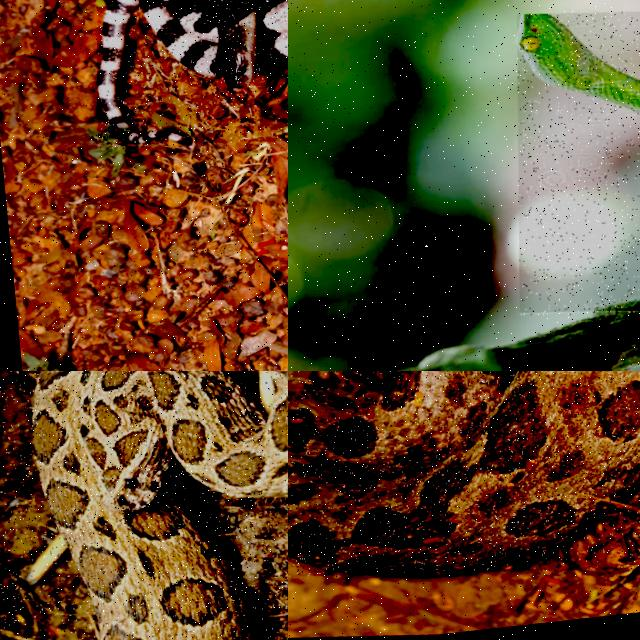Bungarus candidus: (98, 0, 260, 128)
Daboia siamensis: (288, 371, 639, 573), (34, 371, 287, 639)
Trimeresurus macrops: (517, 15, 639, 117)
snake: (288, 371, 639, 573), (34, 371, 287, 639), (98, 0, 260, 128), (517, 15, 639, 117)
